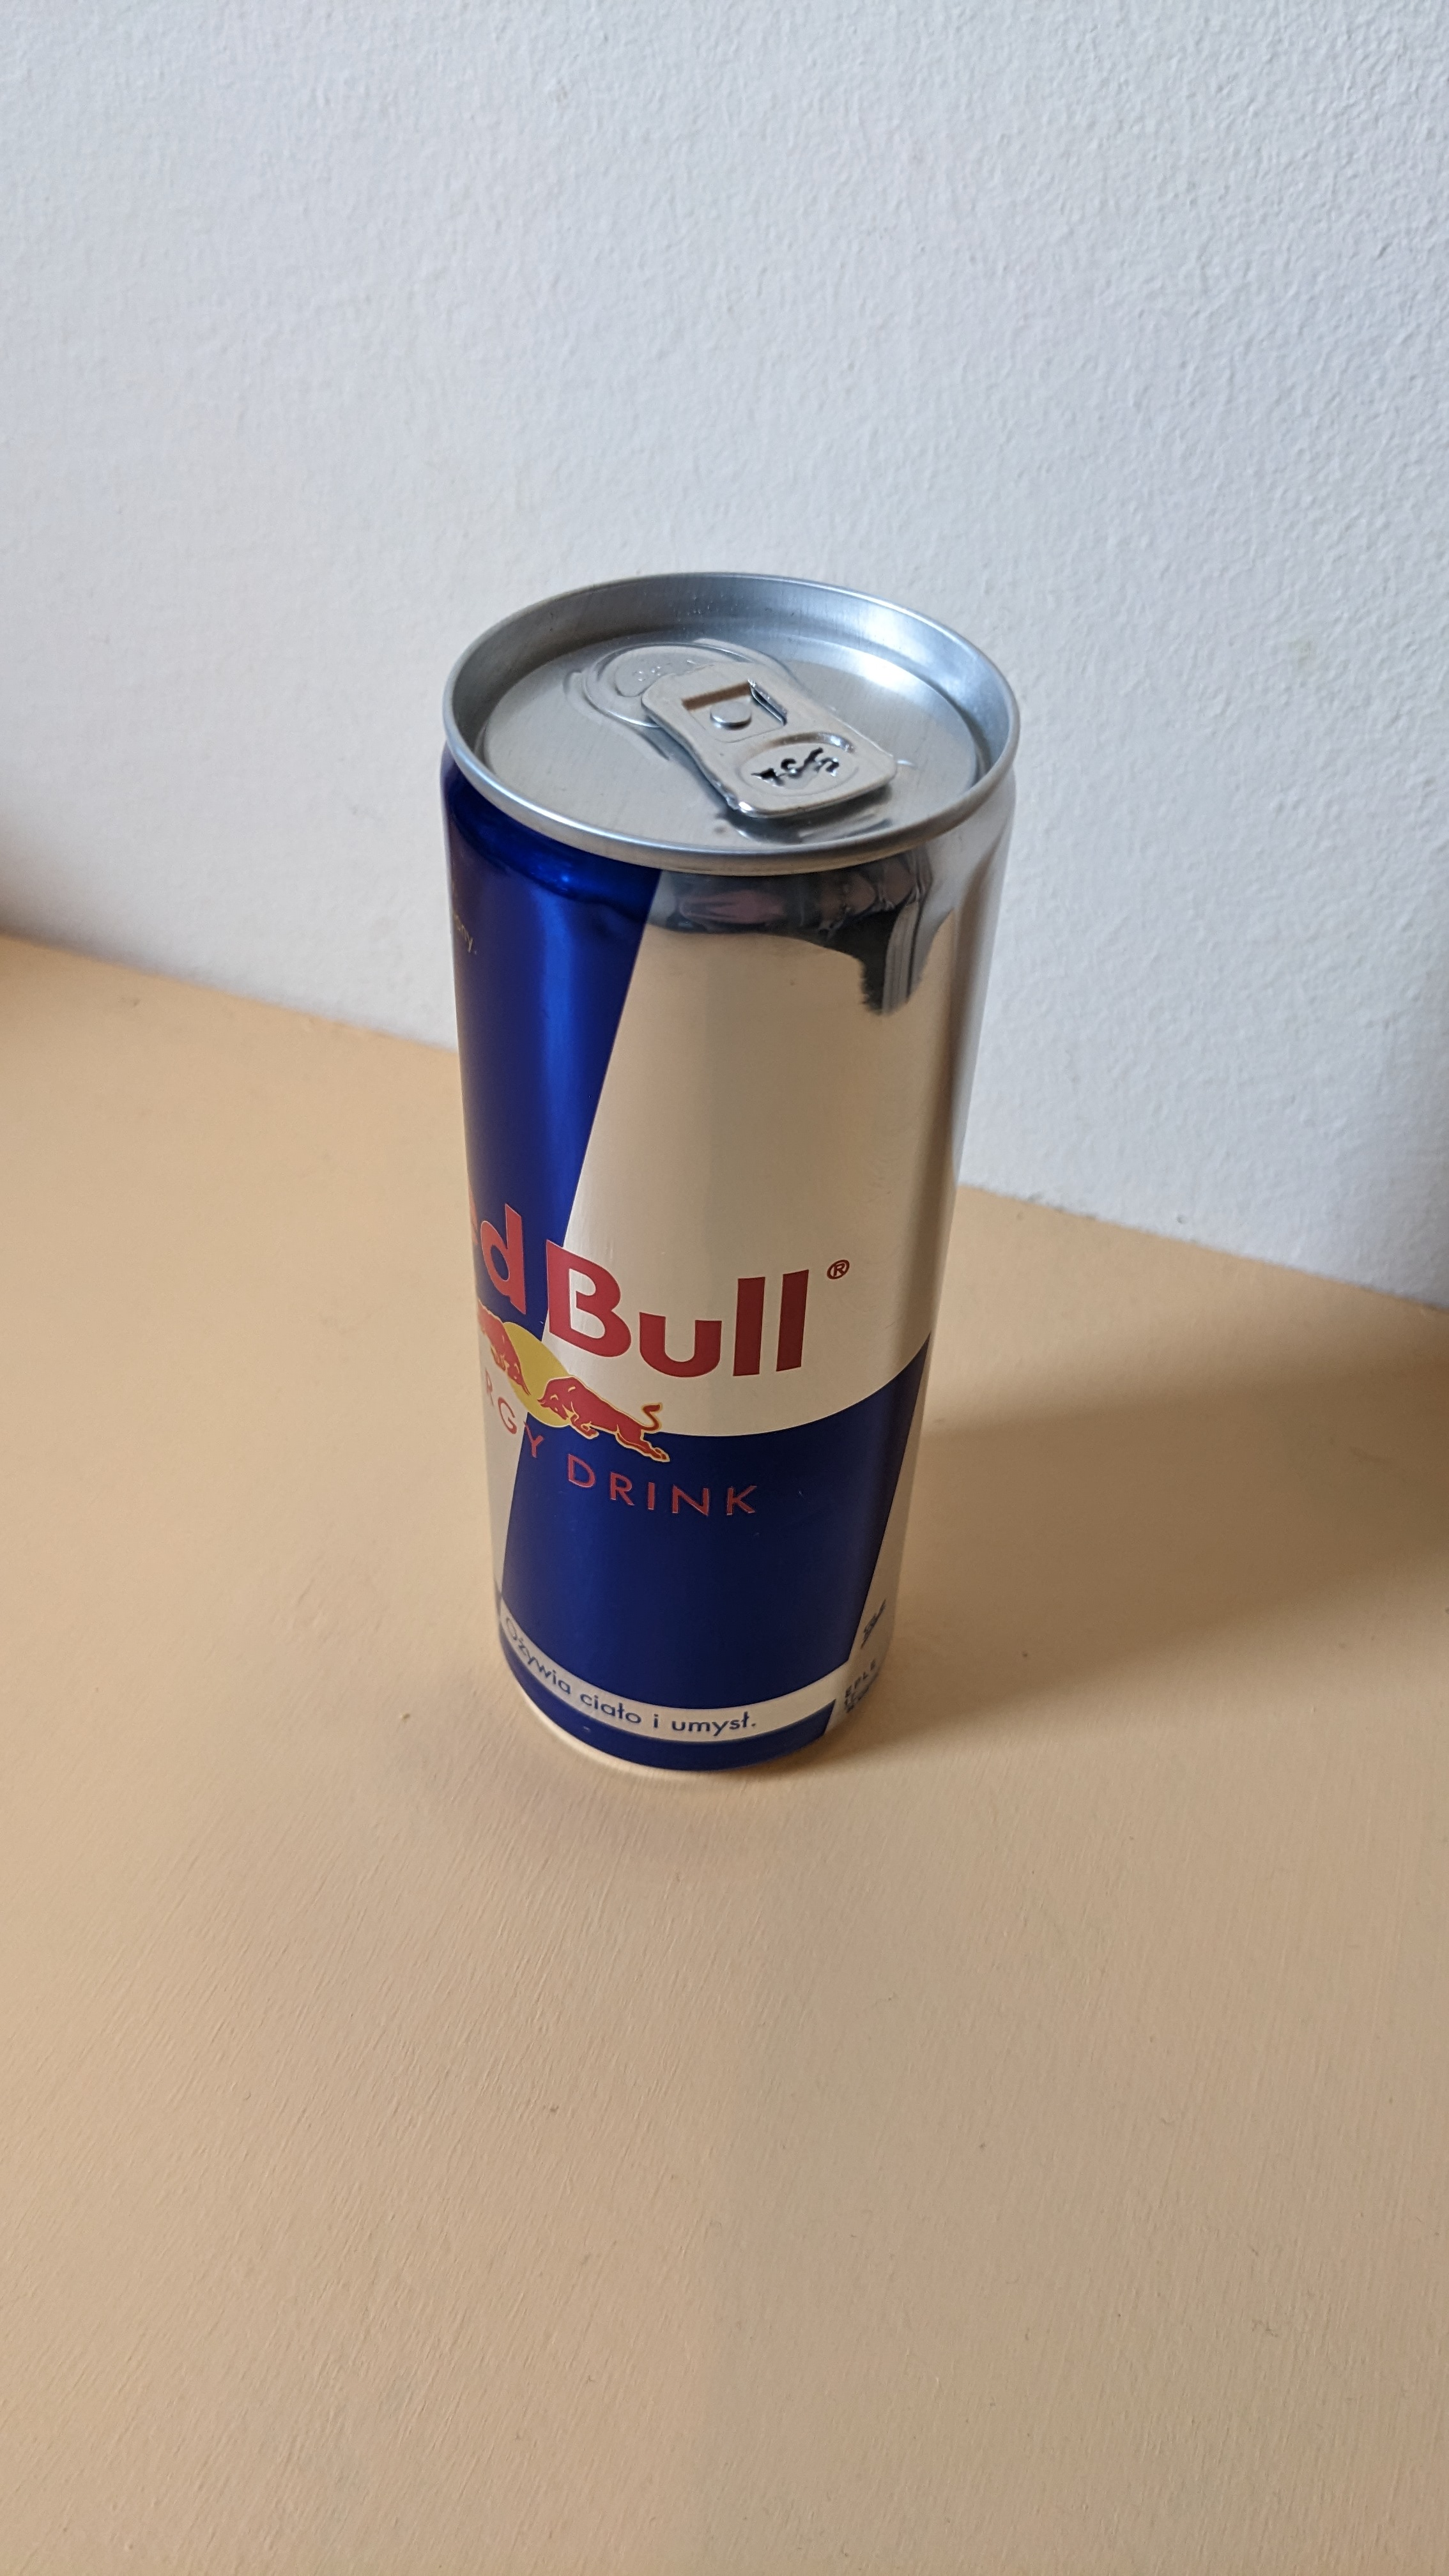red-bull: (400, 582, 1021, 1801)
